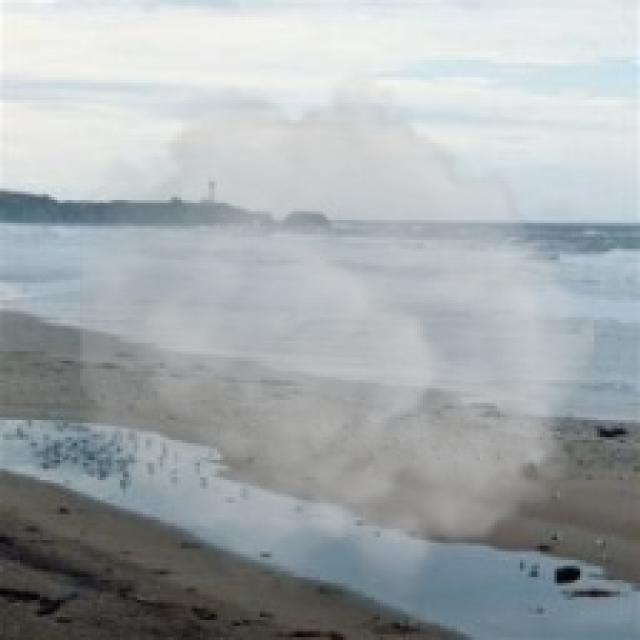smoke: (80, 68, 594, 603)
